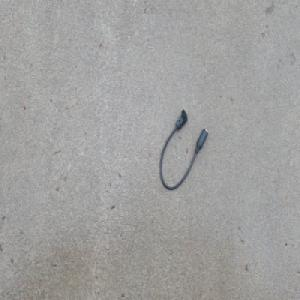Wire: (159, 108, 209, 192)
